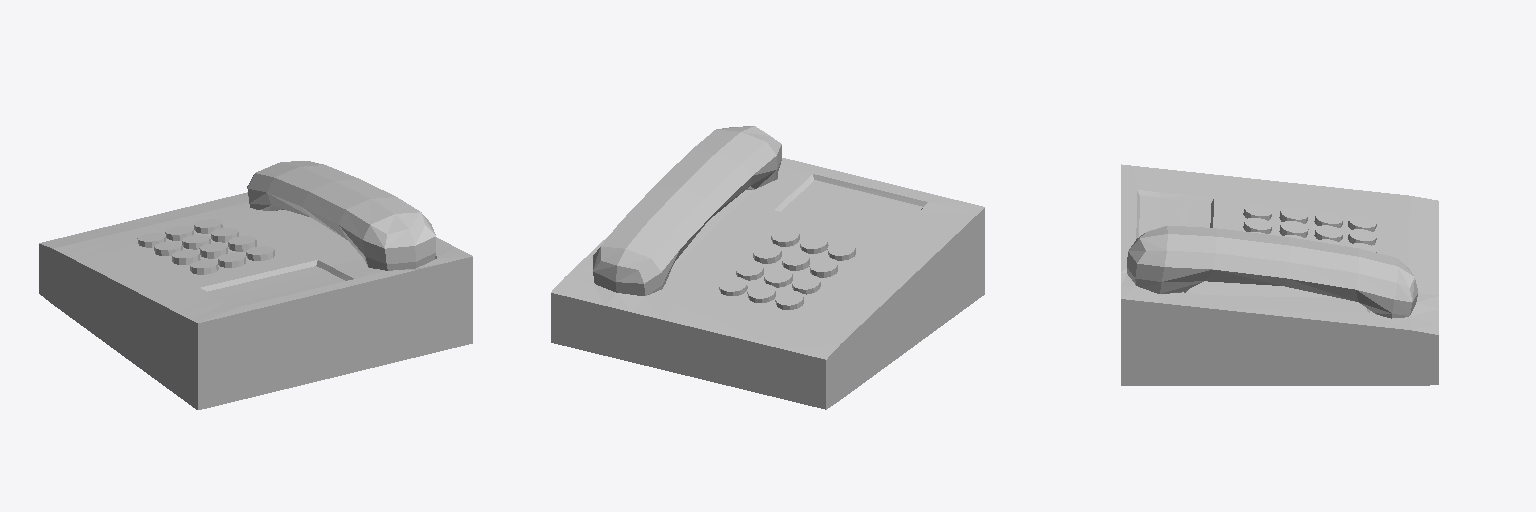
The model's file is Phone.obj.
3 views of the same model, side by side, from view 1: azimuth 30°, elevation 25°; view 2: azimuth 150°, elevation 25°; view 3: azimuth 270°, elevation 25° (orthographic).
Parts seen in each view (by area): view 1: Phone pCube6, Phone pCube7; view 2: Phone pCube6, Phone pCube7; view 3: Phone pCube6, Phone pCube7.
Part boxes in pixels (bbox=[...]): Phone pCube6: bbox=[39, 192, 472, 409]; Phone pCube7: bbox=[247, 161, 435, 270]; Phone pCube6: bbox=[551, 158, 984, 409]; Phone pCube7: bbox=[593, 126, 781, 295]; Phone pCube6: bbox=[1121, 164, 1438, 385]; Phone pCube7: bbox=[1127, 225, 1417, 318].
Size of the model in its own units: 0.9932 by 0.4321 by 0.9932.